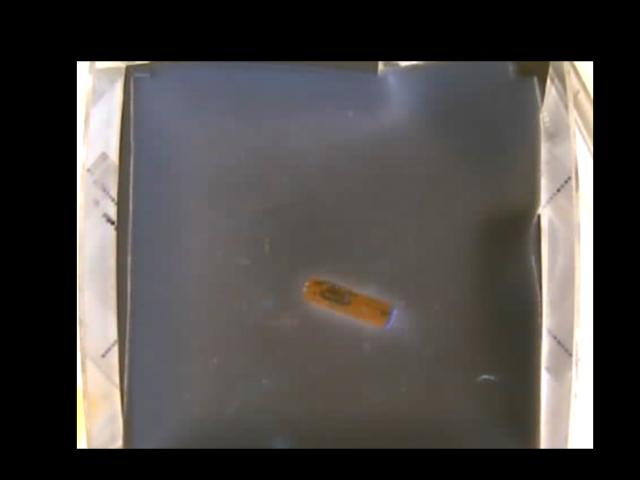Battery: (301, 276, 397, 326)
